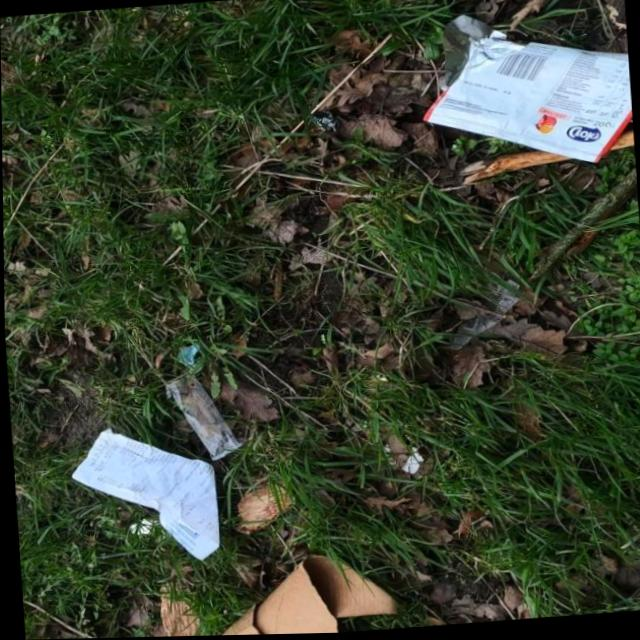Paper: (65, 420, 220, 572)
Plastic: (413, 3, 635, 176), (162, 366, 242, 464)
